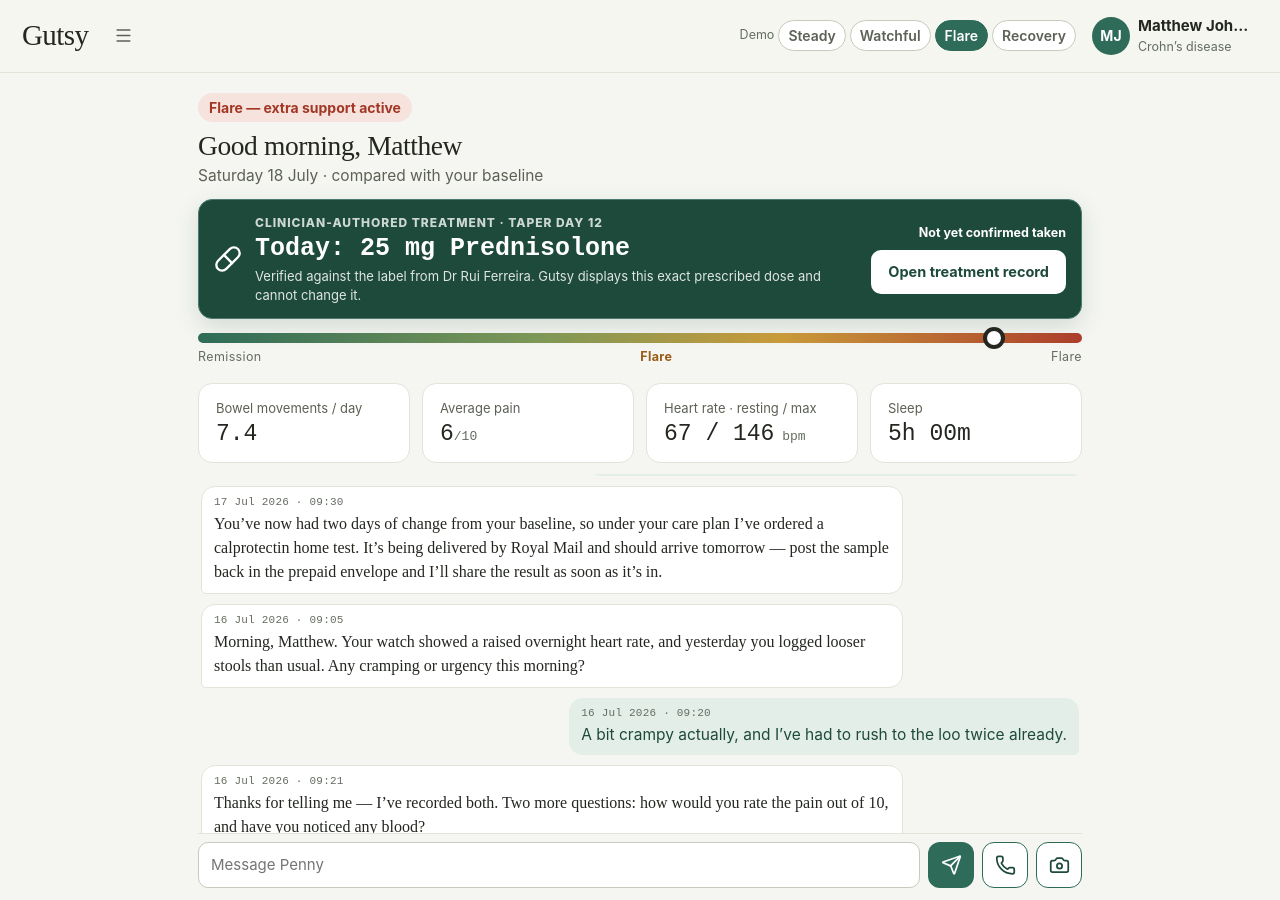
puts the exact verified clinician-prescribed treatment first during an active flare
The image size is (1280, 900).
(page scrolled)
Expected: the element "Today: 25 mg Prednisolone" is shown, [198, 199, 1082, 320]
Expected: the text "cannot change it" is shown, [255, 268, 821, 303]
Click the button "Open treatment record": coordinates (969, 272) [871, 250, 1066, 294]
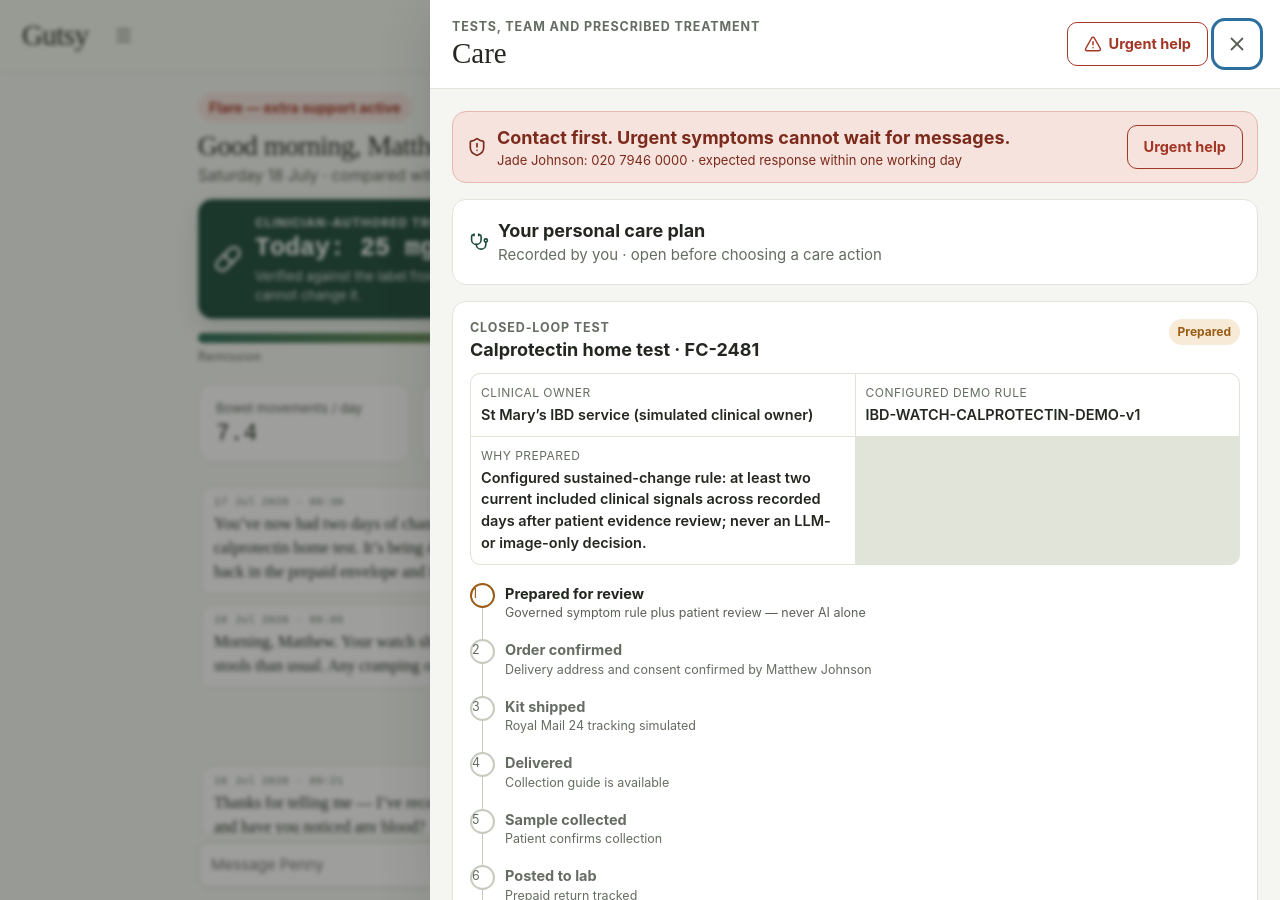
Now the dialog "Care" is shown
